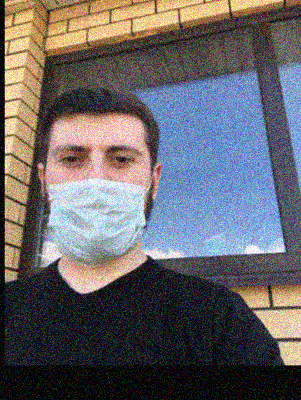with_mask: (46, 132, 149, 269)
